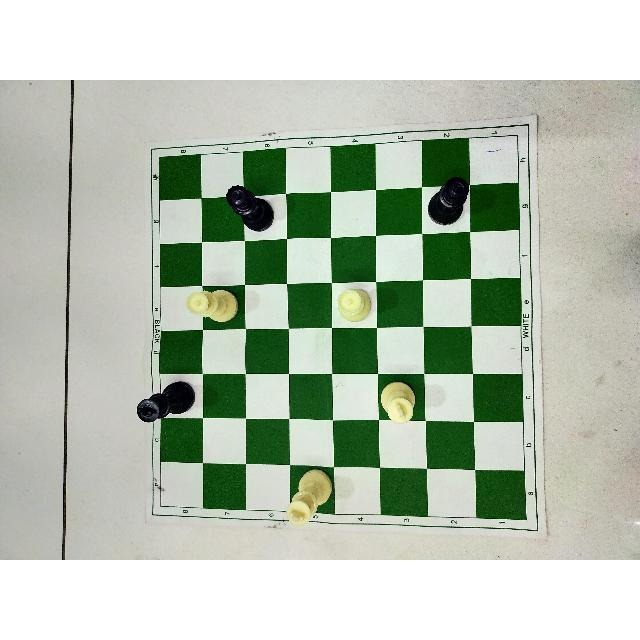black-king: (134, 380, 195, 424)
black-queen: (224, 182, 276, 234), (426, 173, 470, 228)
white-king: (286, 468, 334, 528), (375, 373, 418, 425)
white-queen: (185, 287, 239, 325), (336, 287, 372, 322)
